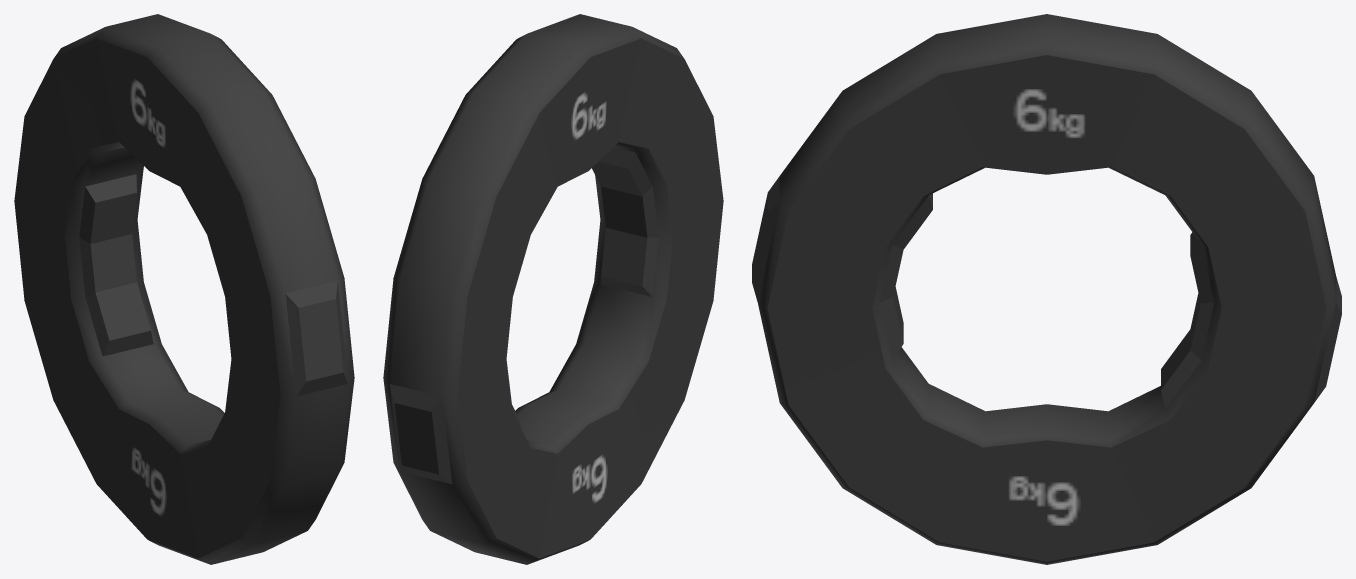
Rendered from weight_2.glb.
The picture shows the model from 3 angles, left to right: view 1: azimuth 30°, elevation 25°; view 2: azimuth 150°, elevation 25°; view 3: azimuth 270°, elevation 25°; orthographic projection. The views are drawn at different scales.
Parts seen in each view (by area): view 1: Weight_C; view 2: Weight_C; view 3: Weight_C.
Part boxes in pixels (x1,y1,x2,y2): Weight_C: (14, 14, 354, 564); Weight_C: (383, 14, 723, 564); Weight_C: (752, 14, 1341, 564).
Size of the model in its own units: 0.0392 by 0.252 by 0.257.
1 material, 1 textured.
